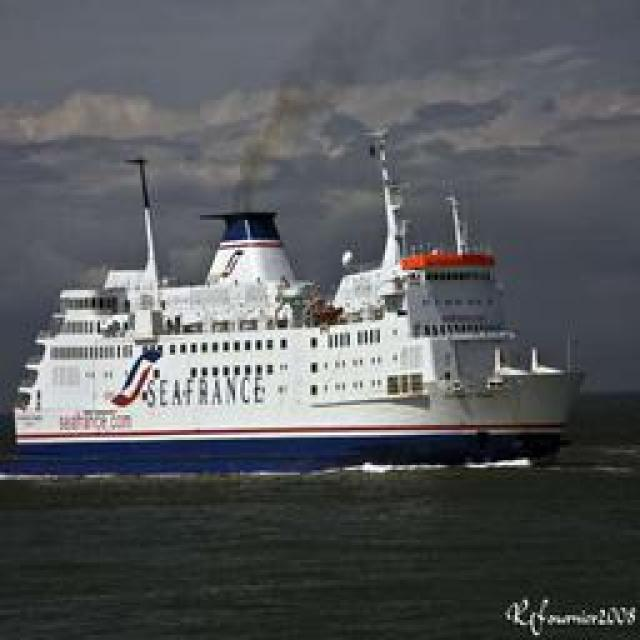ship2: (9, 160, 586, 477)
